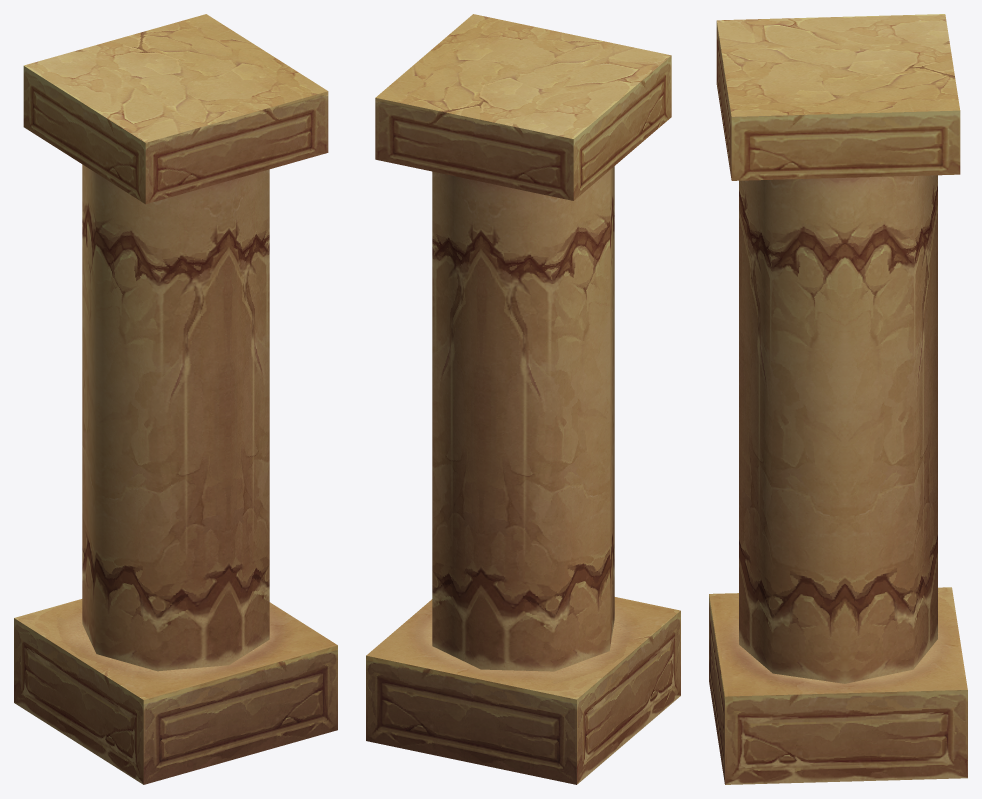
File: Area_09_28.fbx
The picture shows the model from 3 angles, left to right: view 1: azimuth 30°, elevation 25°; view 2: azimuth 150°, elevation 25°; view 3: azimuth 270°, elevation 25°; orthographic projection. The views are drawn at different scales.
Visible parts, largest first — view 1: Area_09_28; view 2: Area_09_28; view 3: Area_09_28.
Boxes of the visible parts, left/top/right/bottom form: Area_09_28: left=14, top=14, right=337, bottom=784; Area_09_28: left=366, top=14, right=680, bottom=784; Area_09_28: left=709, top=14, right=967, bottom=784.
Size of the model in its own units: 264 by 749 by 264.
